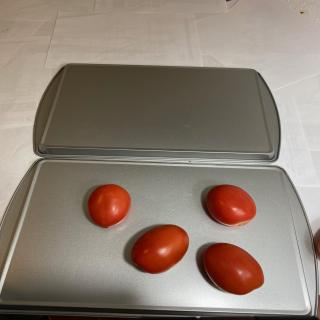Tomato: (203, 242, 264, 296), (131, 224, 189, 274), (206, 184, 257, 227), (87, 184, 131, 228)
